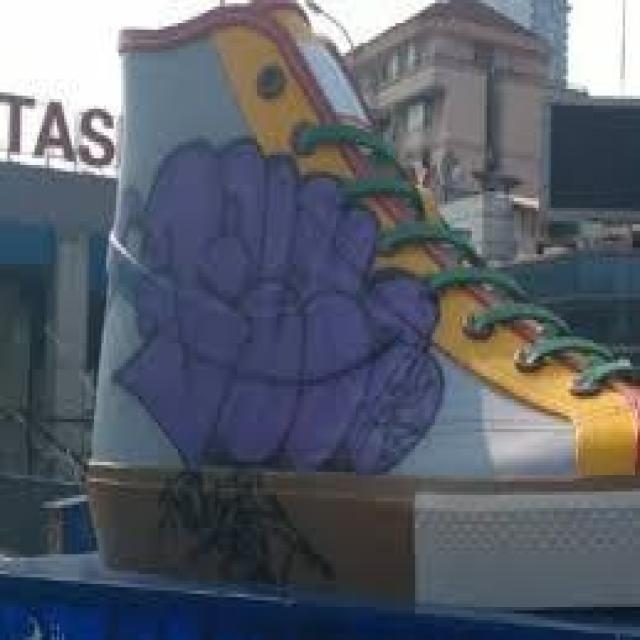nonspitting: (116, 135, 442, 469), (156, 462, 336, 595)
